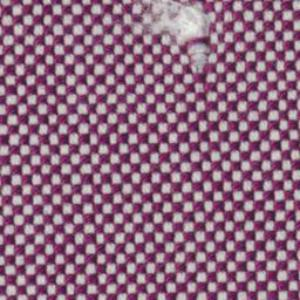fault: (138, 2, 217, 76)
